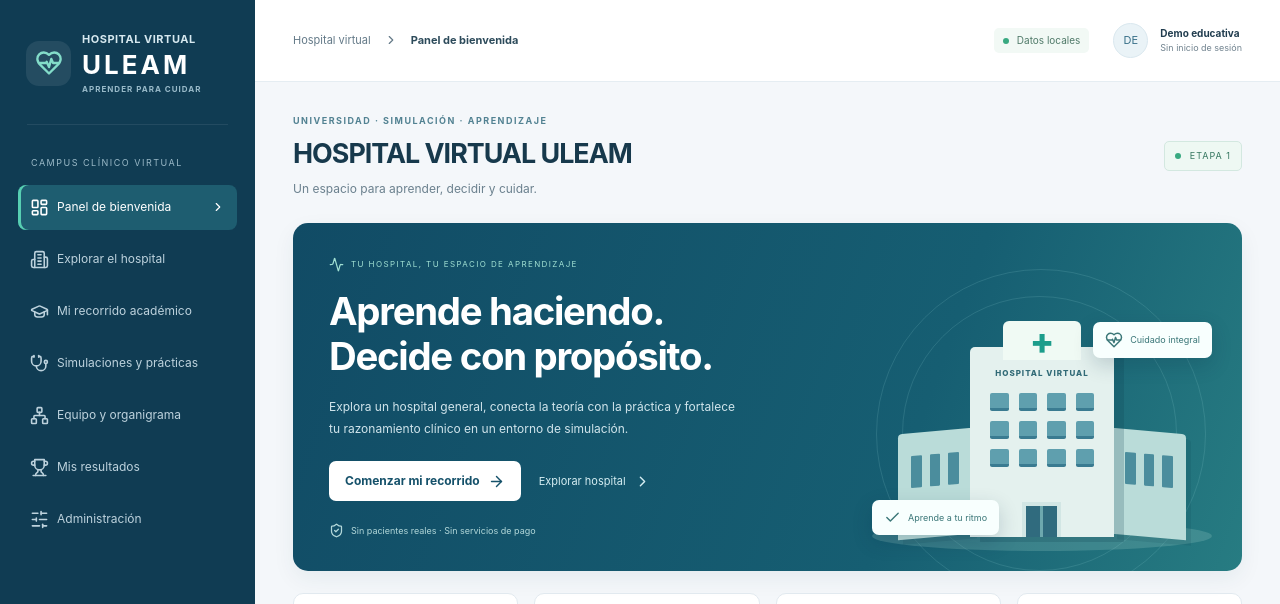
Test case: explora un área y abre su actividad
This screenshot has width=1280, height=604.
Click the button "Explorar el hospital". click: (128, 259)
box: x1=18 y1=237 x2=237 y2=282
(page scrolled)
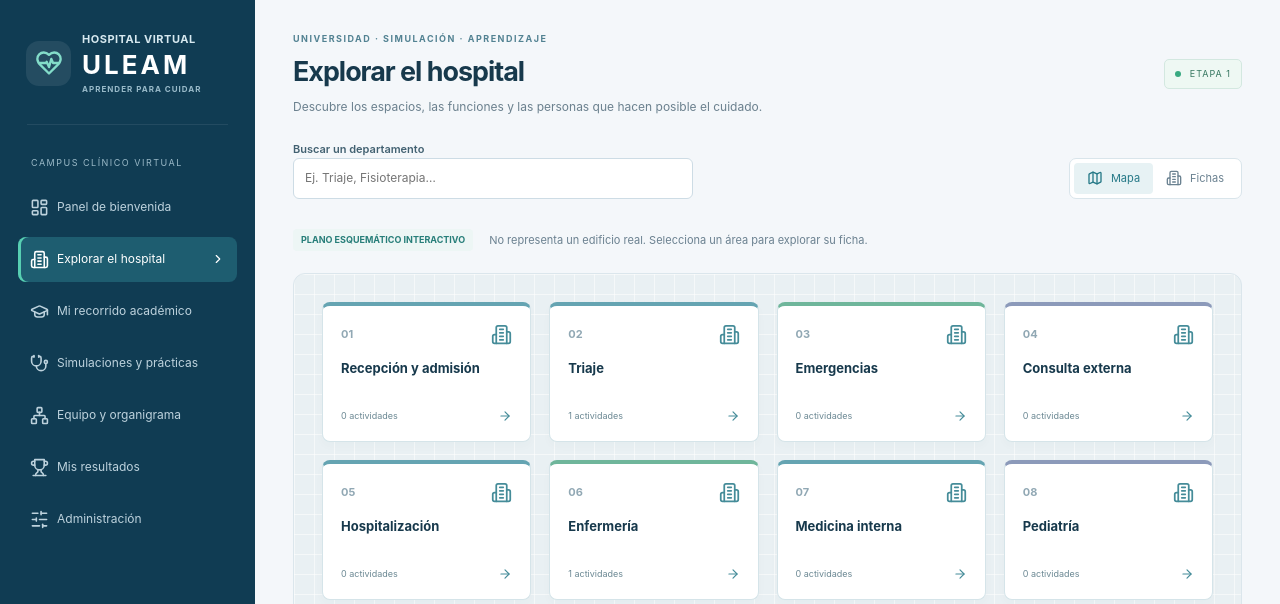
Click the button "02 Triaje 1 actividades". click: (654, 372)
box: x1=549 y1=302 x2=759 y2=442
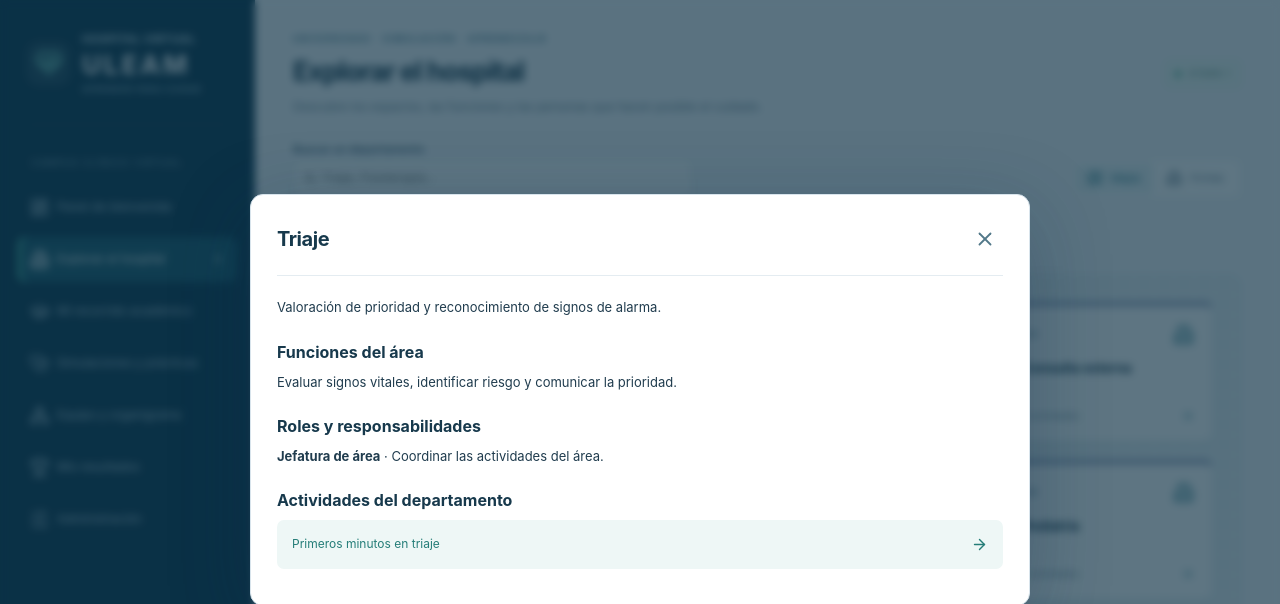
Expected: the heading "Funciones del área" is shown, x1=277 y1=342 x2=424 y2=362
Click the button "Primeros minutos en triaje". click: (366, 544)
box: x1=277 y1=520 x2=1003 y2=569
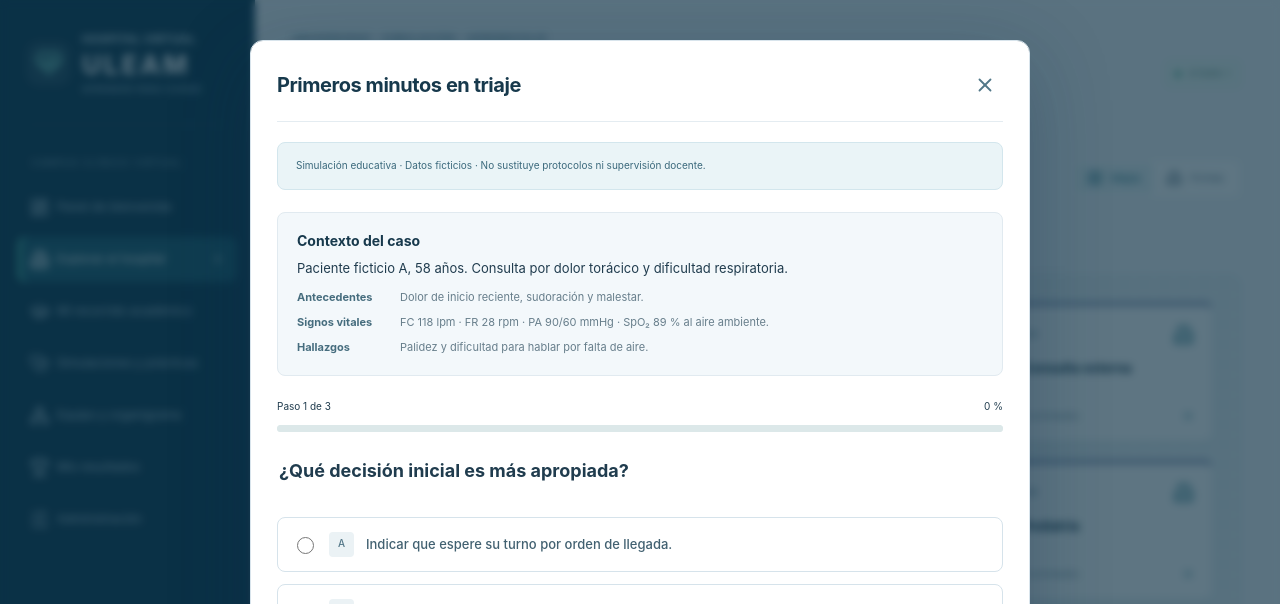
Expected: the text "¿Qué decisión inicial es más apropiada?" is shown, x1=277 y1=457 x2=631 y2=485
